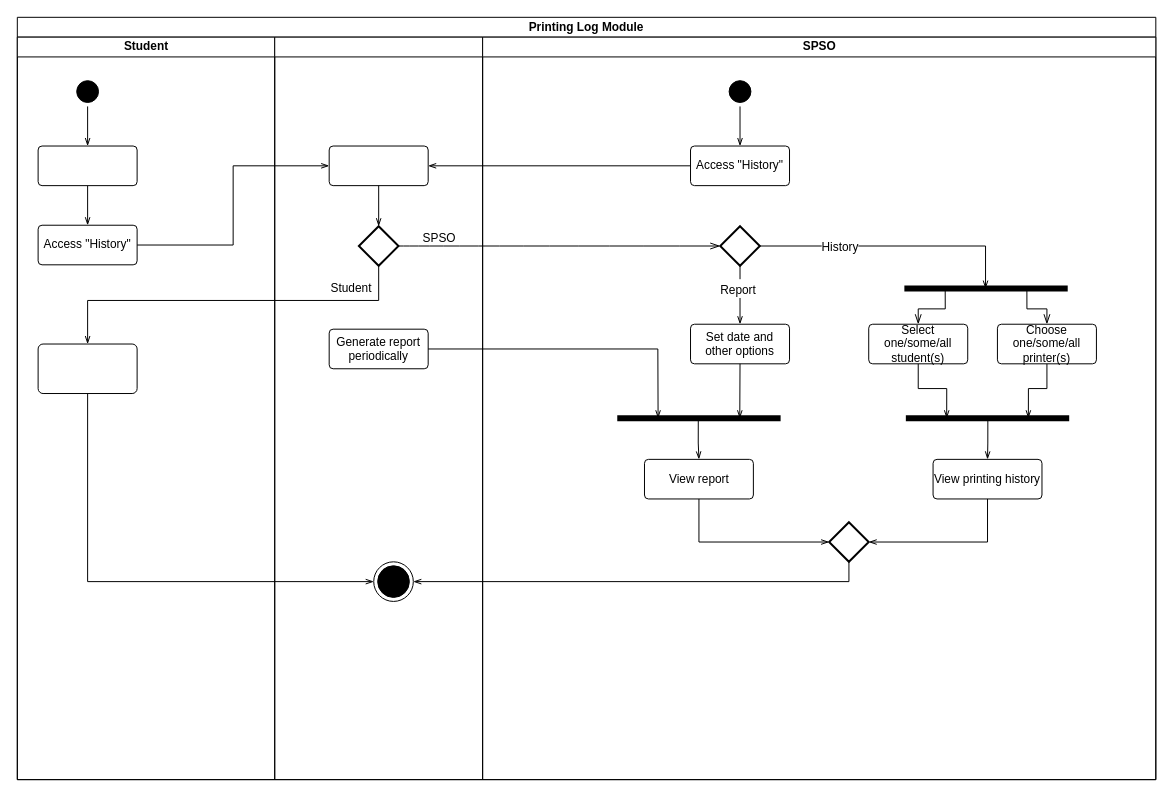
The diagram is 1173 pixels wide and 797 high, and some of its shapes have lost their labels. Each missing label, with the box of its shape:
Access "Profile": (37, 145, 137, 186)
Access database: (328, 145, 428, 186)
System: (274, 36, 483, 780)
View History + Summary for printed pages: (37, 343, 137, 394)
